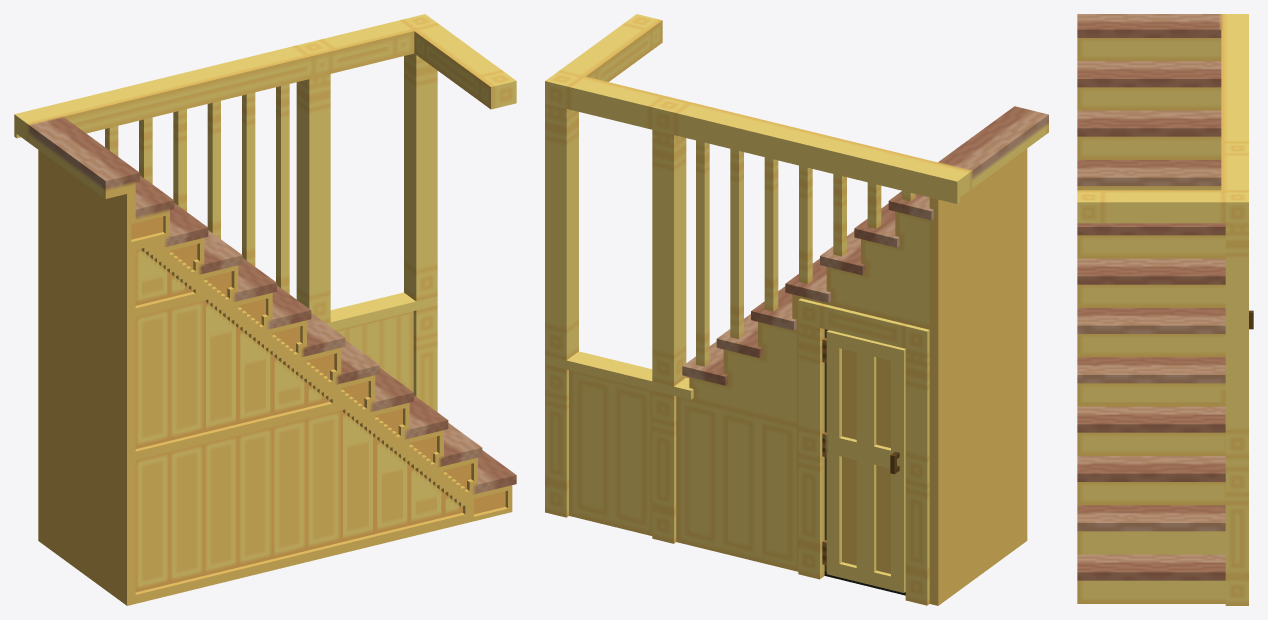
The model's file is upstairs_1.dae.
3 renders of one model, left to right at view 1: azimuth 30°, elevation 25°; view 2: azimuth 150°, elevation 25°; view 3: azimuth 270°, elevation 25°, orthographic. The views are drawn at different scales.
Parts seen in each view (by area): view 1: pl0; view 2: pl0; view 3: pl0.
Part boxes in pixels (left/top/right/bottom): pl0: left=14, top=14, right=516, bottom=605; pl0: left=545, top=14, right=1048, bottom=605; pl0: left=1077, top=14, right=1253, bottom=605.
Bounding box in the file's own units: 96 × 38 × 96.
